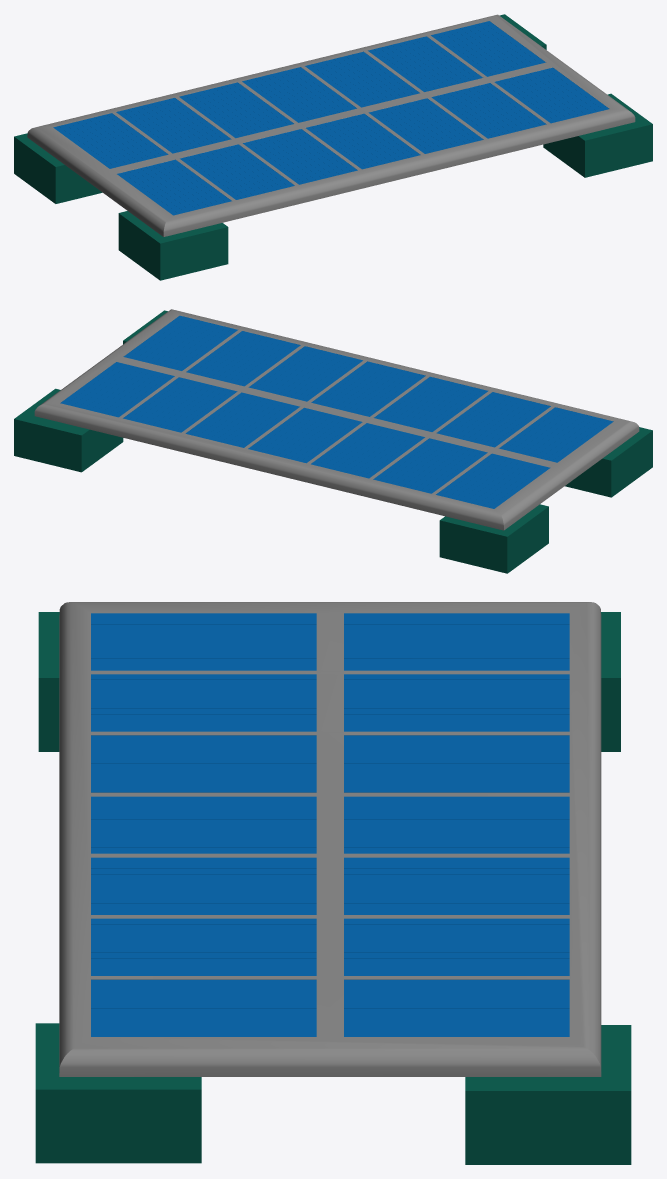
Rendered from 6a-sOLAR-PANEL-WITH-FLOAT-merged.glb.
3 views of the same model, one above another, from view 1: azimuth 30°, elevation 25°; view 2: azimuth 150°, elevation 25°; view 3: azimuth 270°, elevation 25° (orthographic). The views are drawn at different scales.
Visible parts, largest first — view 1: Cube.003; view 2: Cube.003; view 3: Cube.003.
Boxes of the visible parts, left/top/right/bottom form: Cube.003: left=14, top=14, right=652, bottom=280; Cube.003: left=14, top=309, right=652, bottom=573; Cube.003: left=35, top=602, right=631, bottom=1164.
Size of the model in its own units: 0.1255 by 0.012 by 0.0659.
